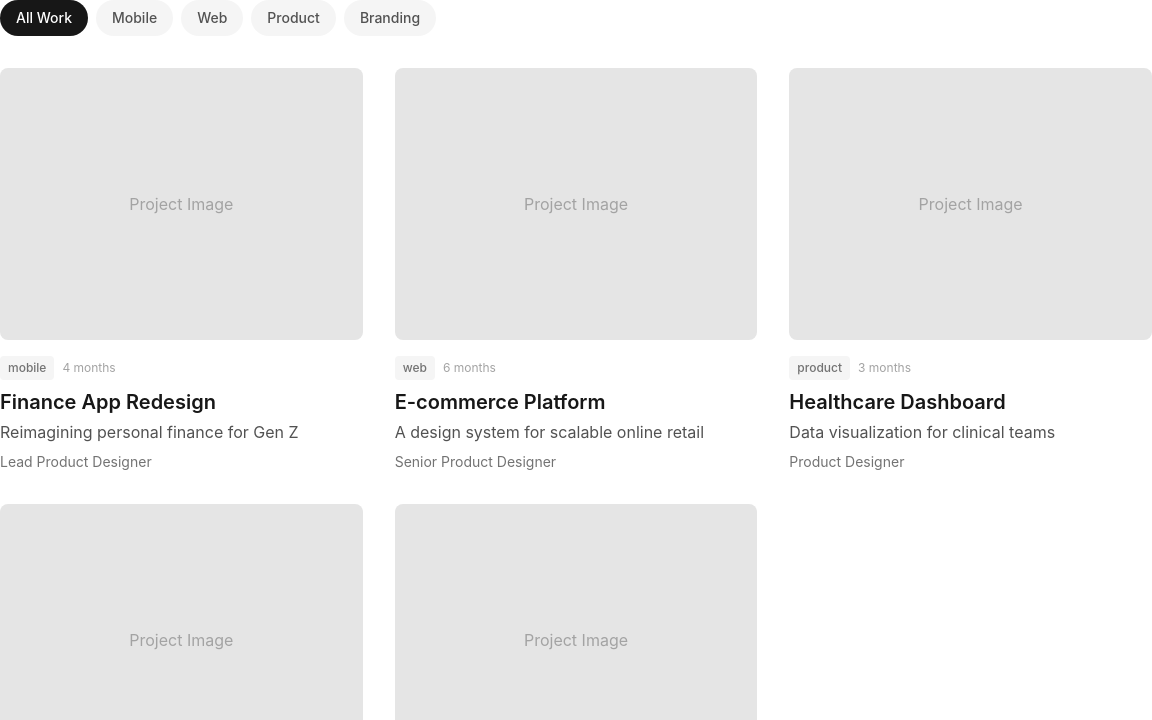
Test case: ProjectGrid › shows all projects when "All Work" is selected
The image size is (1152, 720).
Note: First select a specific category
Click the button "Mobile". click: [135, 18]
box: [96,0,173,36]
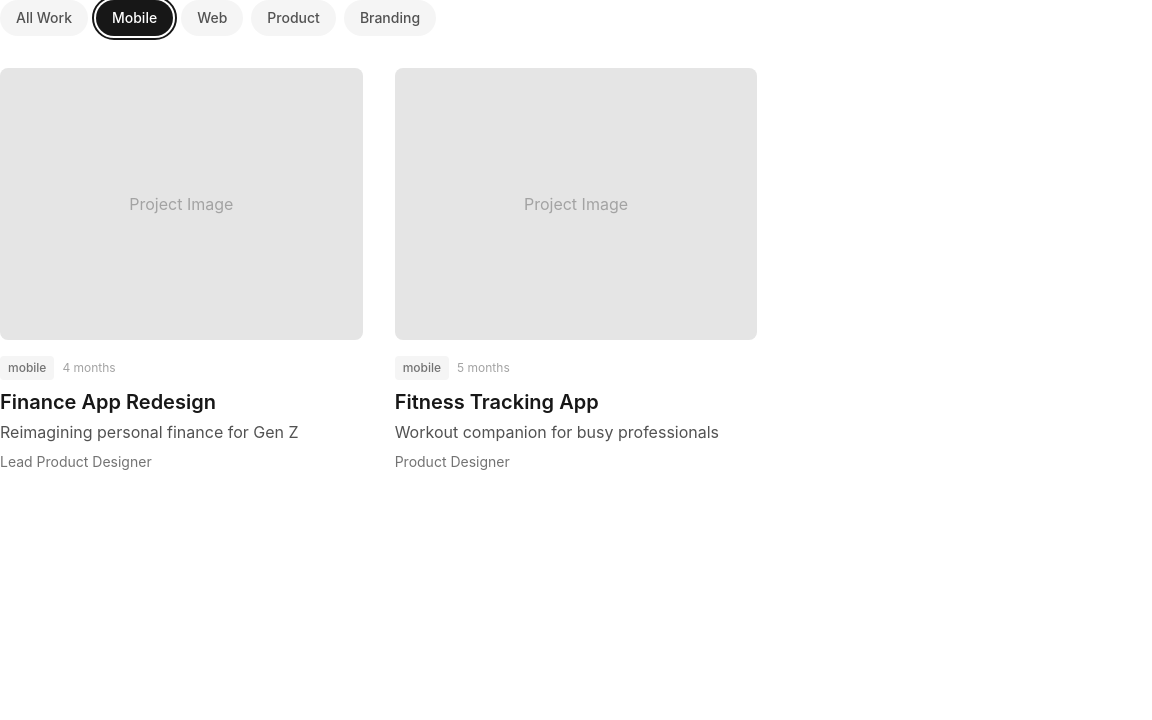
Note: Then select "All Work"
Click the button "All Work". click: [44, 18]
box: [0,0,88,36]
(page scrolled)
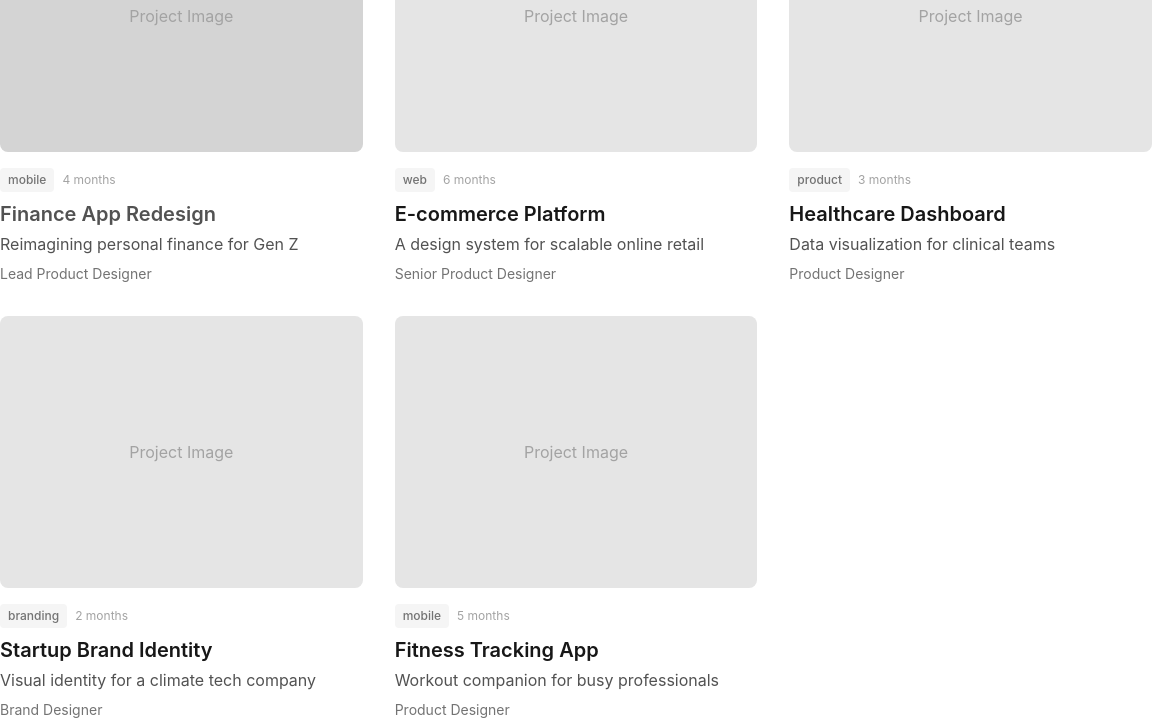
Check: the heading "E-commerce Platform" is shown, box [395,202,606,226]
Check: the heading "Healthcare Dashboard" is shown, box [789,202,1006,226]
Check: the heading "Startup Brand Identity" is shown, box [0,638,213,662]
